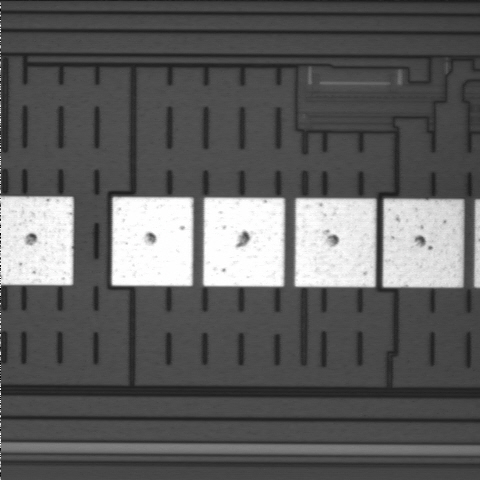pad: (203, 198, 285, 287), (112, 197, 193, 286), (295, 198, 376, 287), (383, 199, 463, 287)
